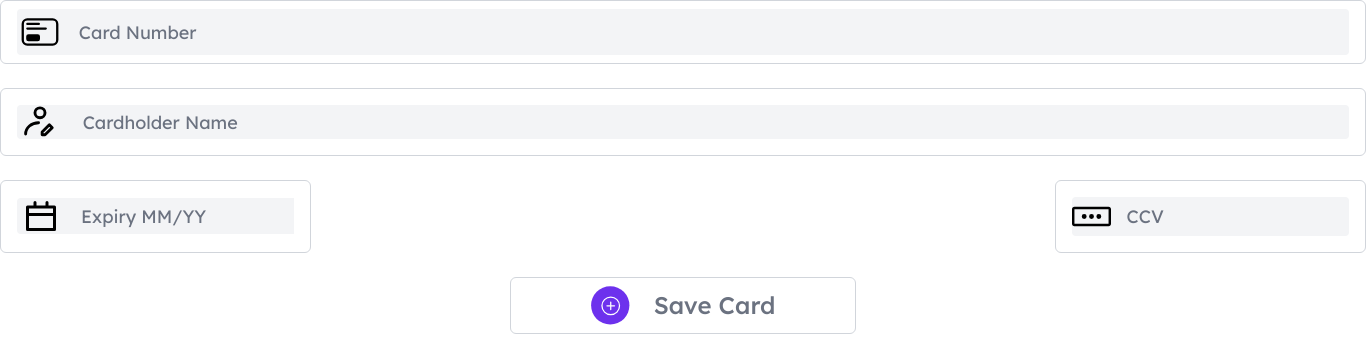
CardInput Component › detects Visa card type correctly
Type "4111111111111111" into the field with placeholder "Card Number" at (714, 32), box [79, 20, 1349, 44]
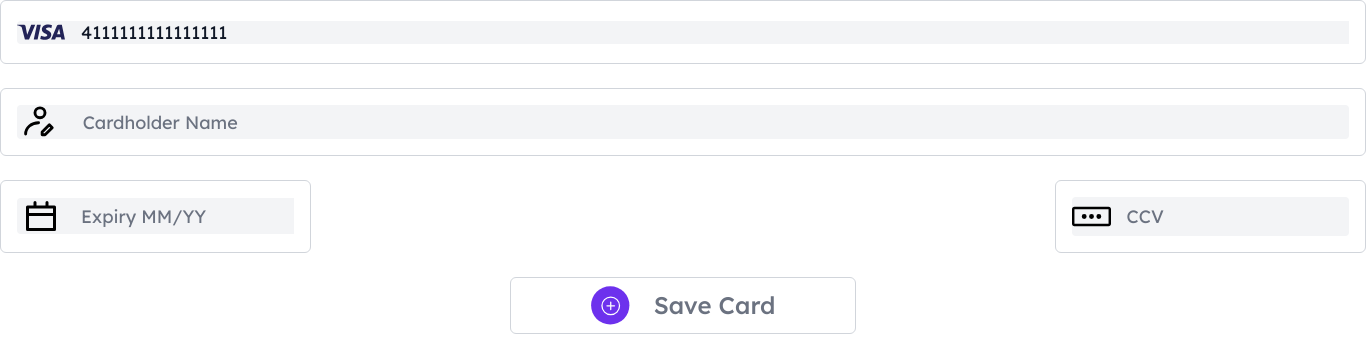
expect the picture with alt text "visa" is shown: met, box [17, 24, 65, 40]
